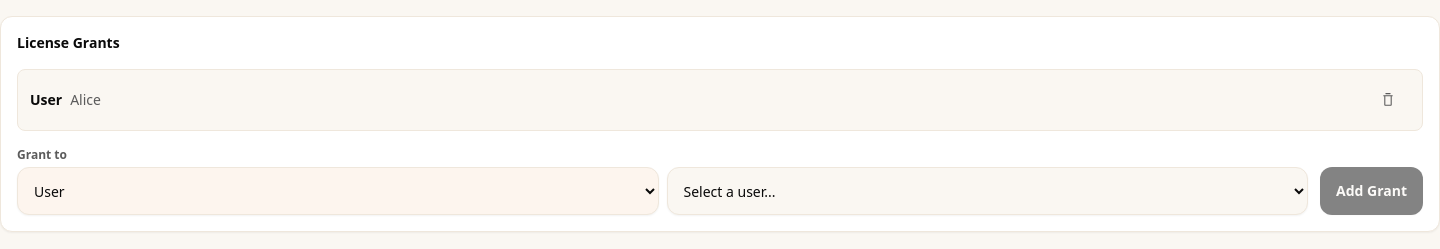
Test case: OrgLicenseGrantPanel › allows revoking a grant
Expected: the text "Alice" is shown, [70,90,101,109]
Click the button named "Revoke grant for Alice".
click(1388, 100)  # box [1366,78,1410,122]
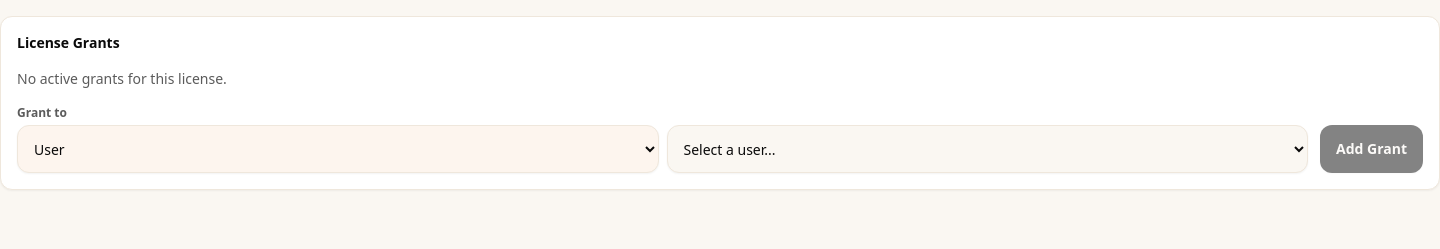
Now the text "No active grants for this license." is shown, box [17,69,227,88]
